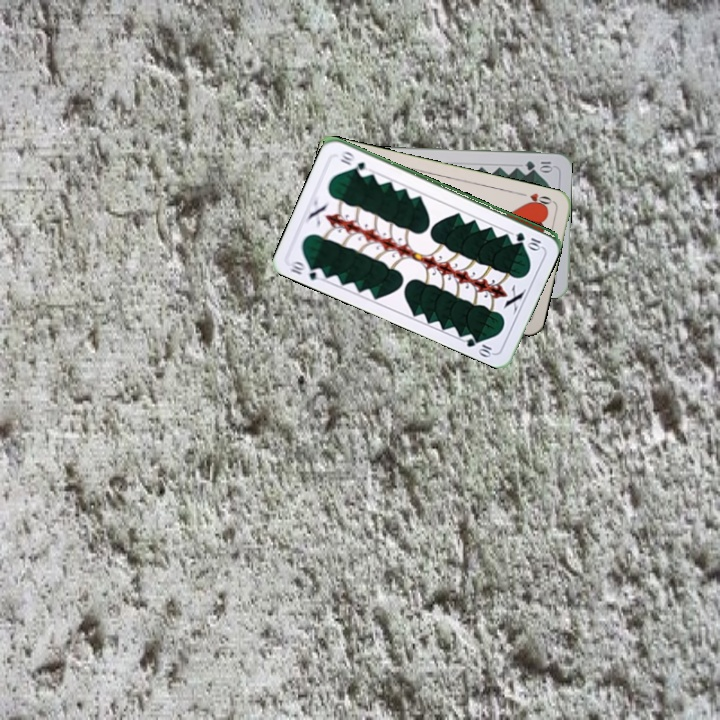G10: (287, 257, 327, 283), (511, 228, 544, 250), (522, 157, 556, 173)
HO: (516, 189, 556, 211)
